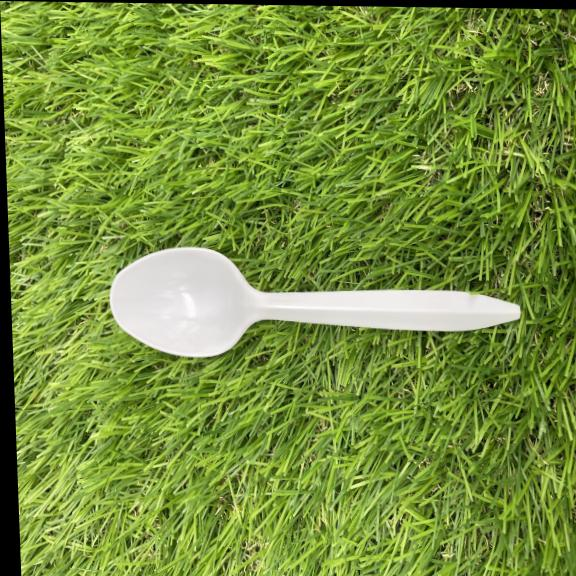Plastik: (110, 246, 514, 356)
